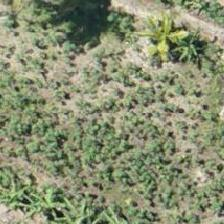coconut_tree: (128, 0, 218, 84)
